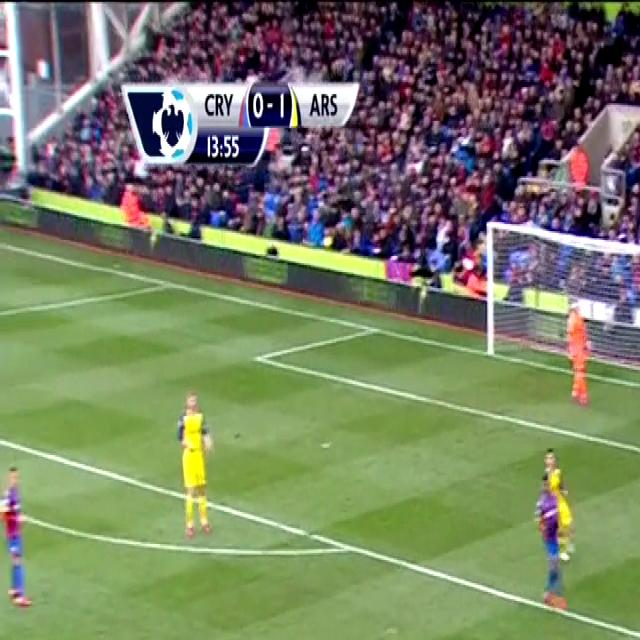goalkeeper: (559, 302, 602, 412)
soccer-player: (163, 384, 221, 542), (525, 456, 583, 614), (0, 461, 44, 615)
